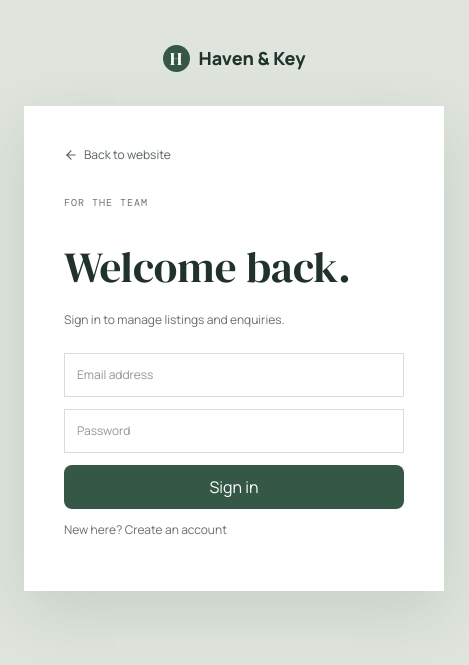
Test: staff access › refuses to sign in a pending account and signs it out again
This screenshot has width=469, height=665.
Type "sam@example.com" into the field with placeholder "Email address" at (234, 375), box [64,353,404,397]
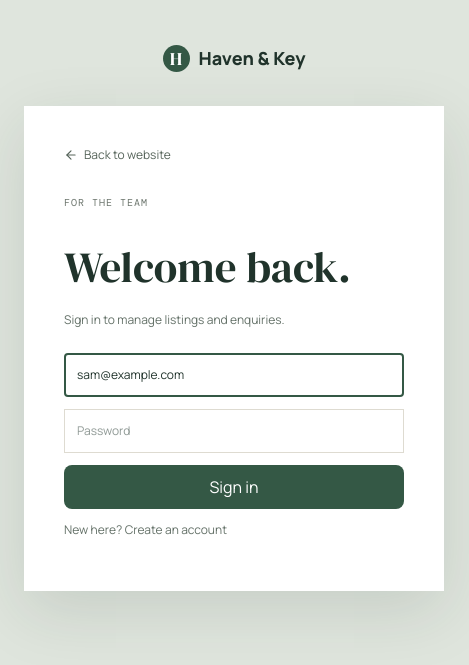
Type "secret123" into the password field with placeholder "Password" at (234, 431), box [64,409,404,453]
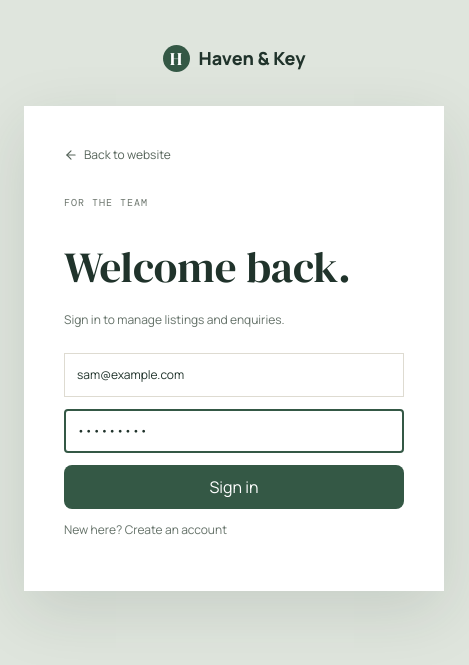
Click the button "Sign in" at (234, 487), box [64,465,404,509]
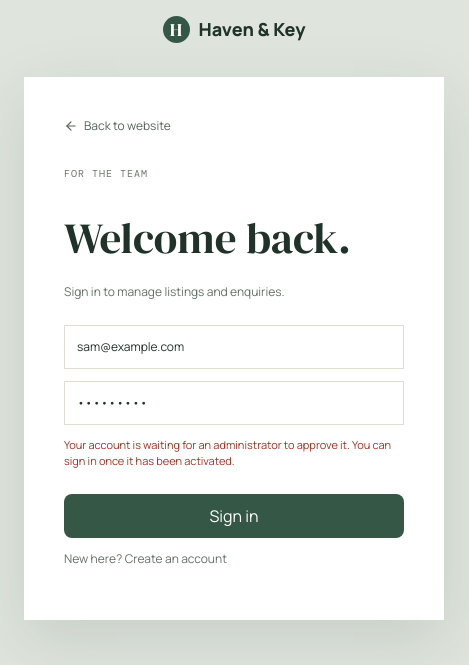
Expected: the text "waiting for an administrator to approve" is shown, [64,437,391,468]
